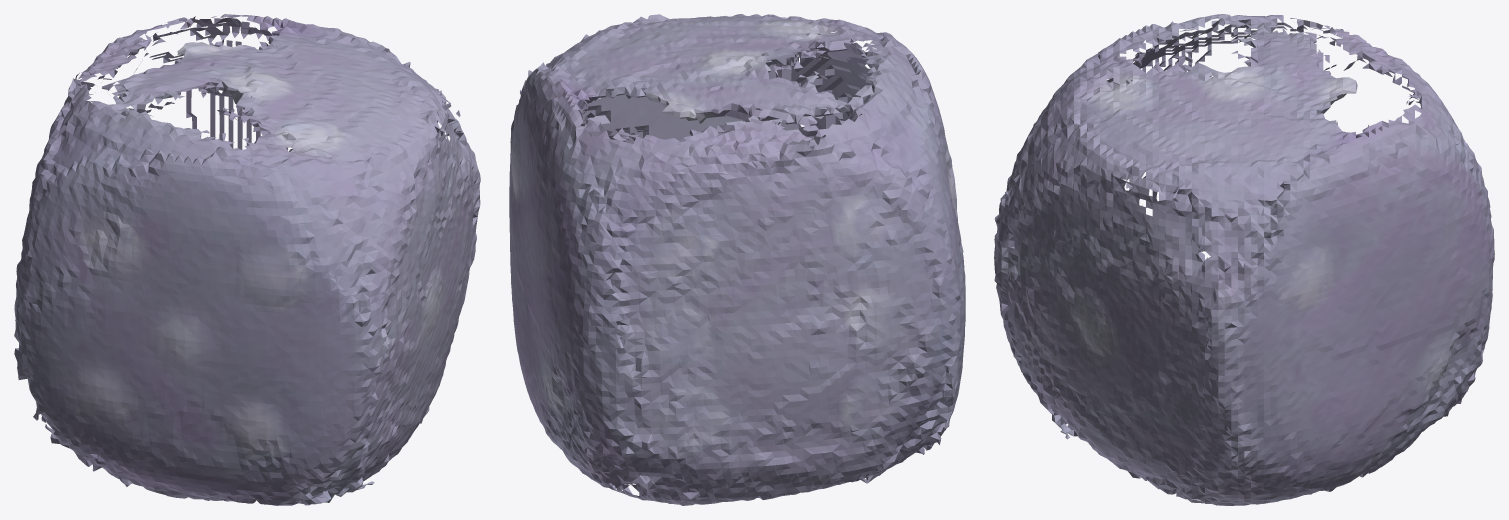
3 renders of one model, left to right at view 1: azimuth 30°, elevation 25°; view 2: azimuth 150°, elevation 25°; view 3: azimuth 270°, elevation 25°, orthographic. The views are drawn at different scales.
Parts seen in each view (by area): view 1: geometry_0; view 2: geometry_0; view 3: geometry_0.
Boxes of the visible parts, left/top/right/bottom form: geometry_0: left=14, top=14, right=480, bottom=505; geometry_0: left=509, top=14, right=965, bottom=505; geometry_0: left=994, top=14, right=1494, bottom=505.
Size of the model in its own units: 1.73 by 1.42 by 1.73.
